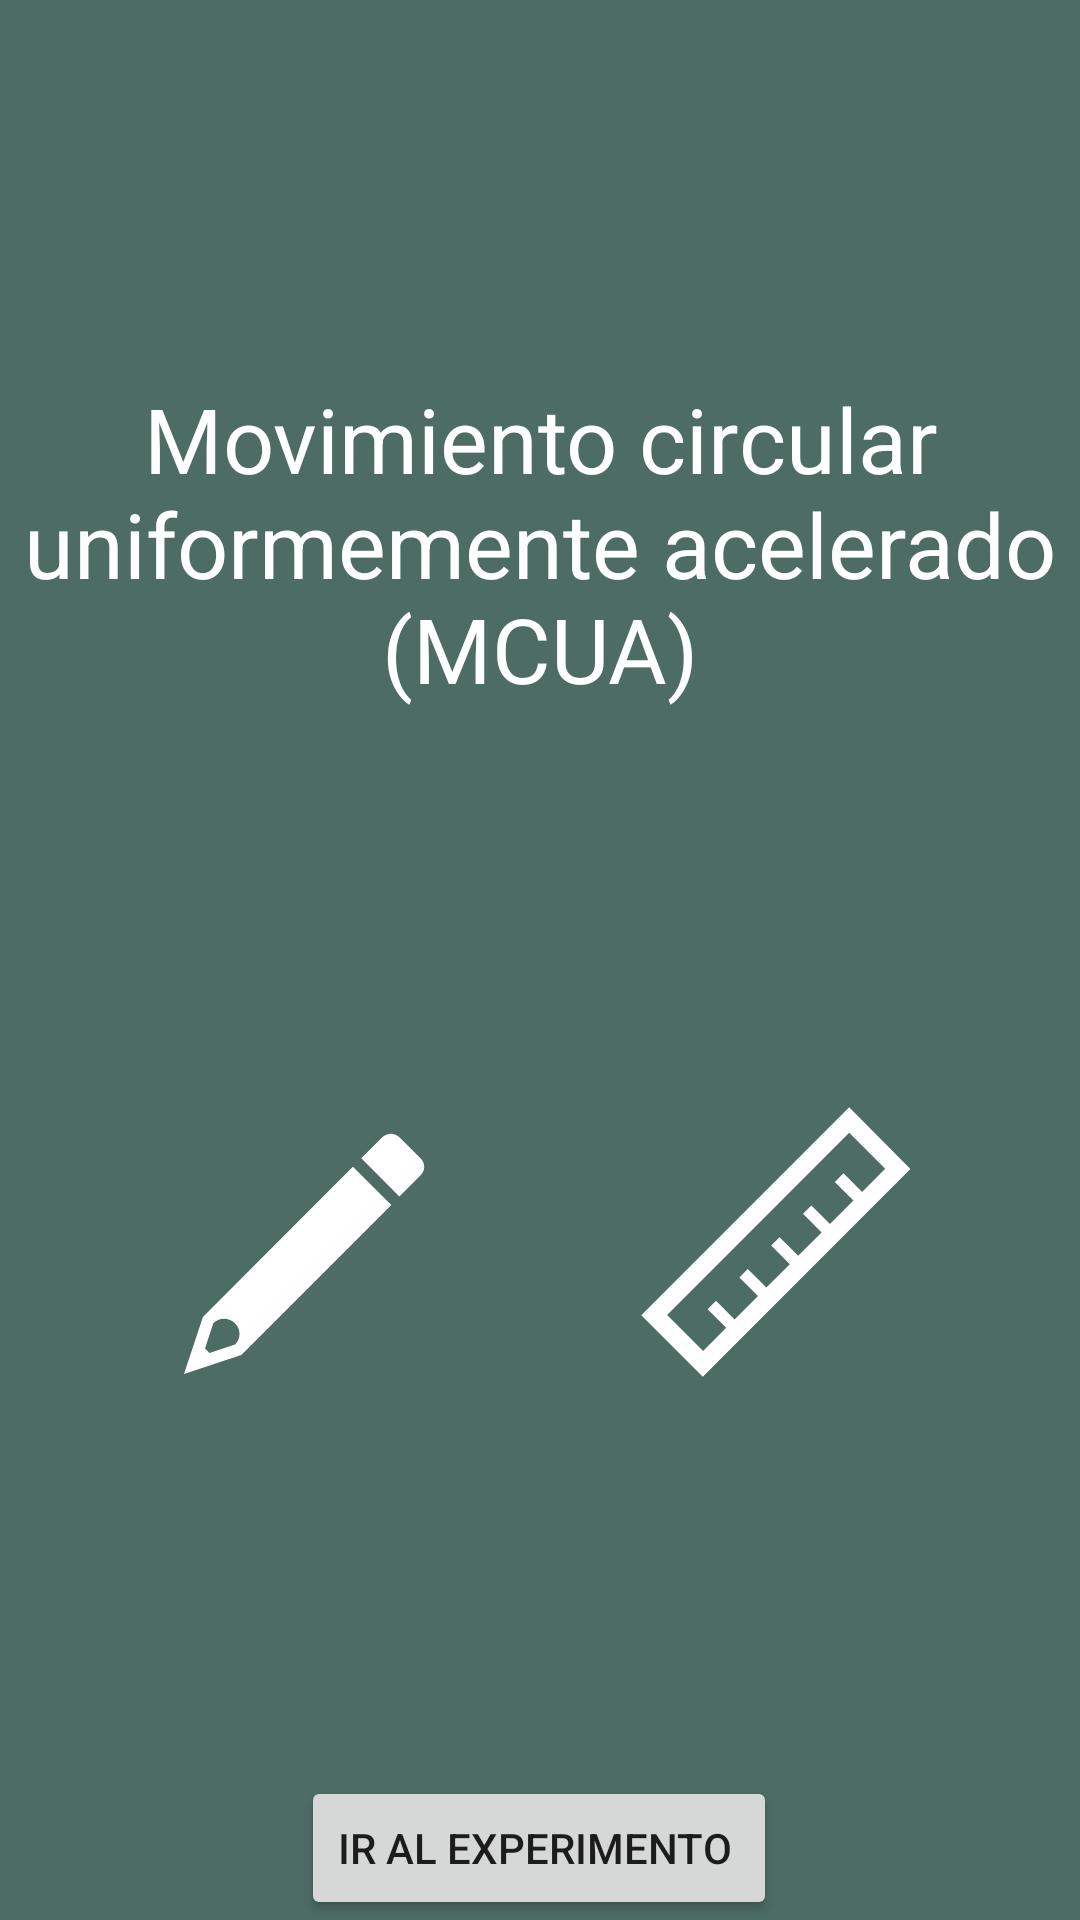

Screen size 1080w x 1920h. Icon name, then its center in pixels as (x,y):
lapiz: (304,1253)
regla: (775,1242)
